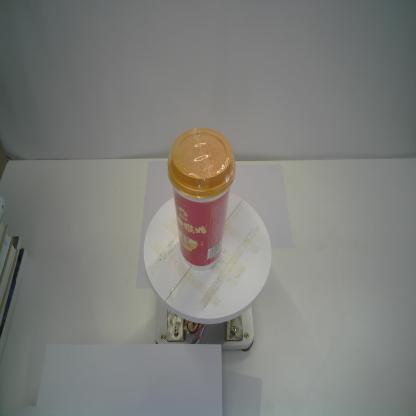Instant Drink: (167, 127, 236, 272)
